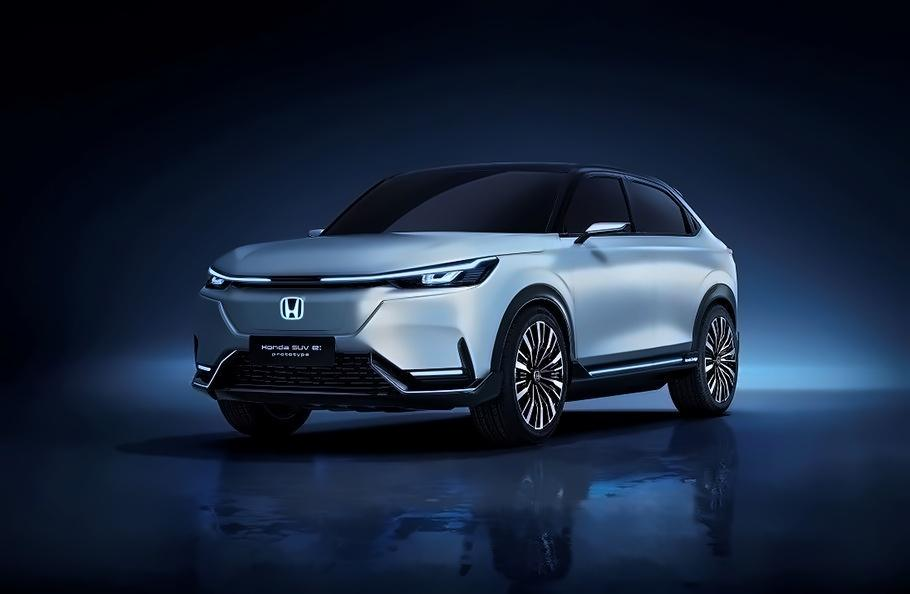Car hood: (205, 229, 570, 279)
Fender - -F-L-: (494, 229, 578, 398)
Fender - -R-L-: (696, 238, 742, 329)
Front bumper: (186, 290, 513, 412)
Headlight - -L-: (380, 249, 508, 298)
Headlight - -R-: (191, 262, 247, 295)
Passenger-s door - -F-L-: (577, 167, 642, 373)
Passenger-s door - -R-L-: (640, 172, 706, 375)
Side bumper - -L-: (567, 344, 708, 397)
Side mirror - -L-: (571, 211, 632, 252)
Side mirror - -R-: (301, 221, 334, 249)
